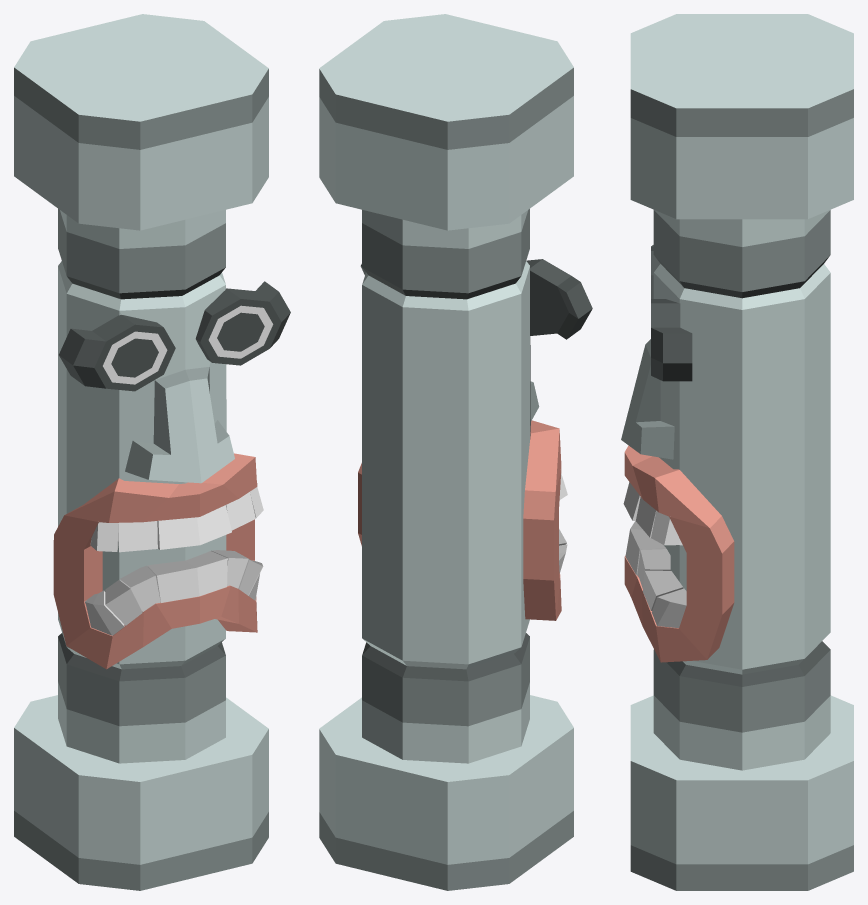
Rendered from Totem.fbx.
3 views of the same model, side by side, from view 1: azimuth 30°, elevation 25°; view 2: azimuth 150°, elevation 25°; view 3: azimuth 270°, elevation 25° (orthographic).
Parts seen in each view (by area): view 1: Totem_2; view 2: Totem_2; view 3: Totem_2.
Boxes of the visible parts, x1=… form: Totem_2: x1=14, y1=14, x2=290, y2=890; Totem_2: x1=319, y1=14, x2=592, y2=890; Totem_2: x1=621, y1=14, x2=853, y2=890.
Size of the model in its own units: 206 by 696 by 188.
